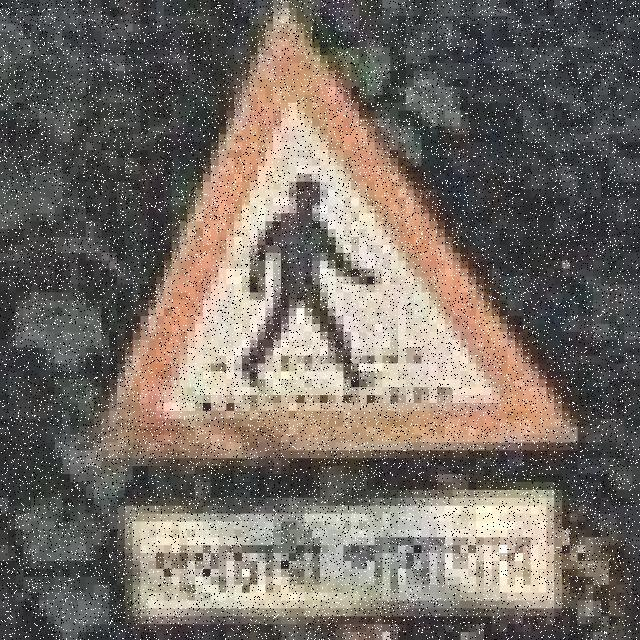Pedestrian-crossing: (94, 7, 589, 632)
